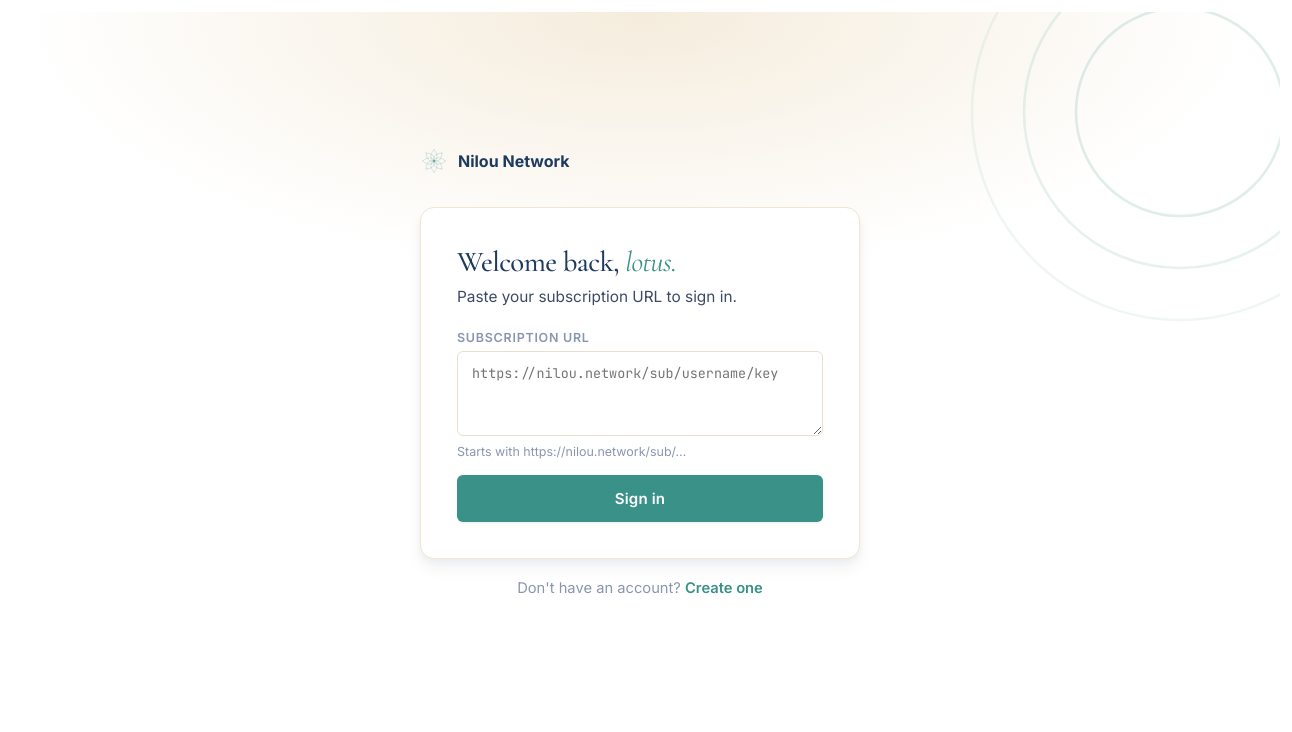
Scenario: LoginPage submit flow › on 400 (malformed): shows backend detail without storing token
In the text box with placeholder "https://nilou.network/sub/username/key": (640, 394) [457, 351, 823, 436], type "https://example.com/junk/path"
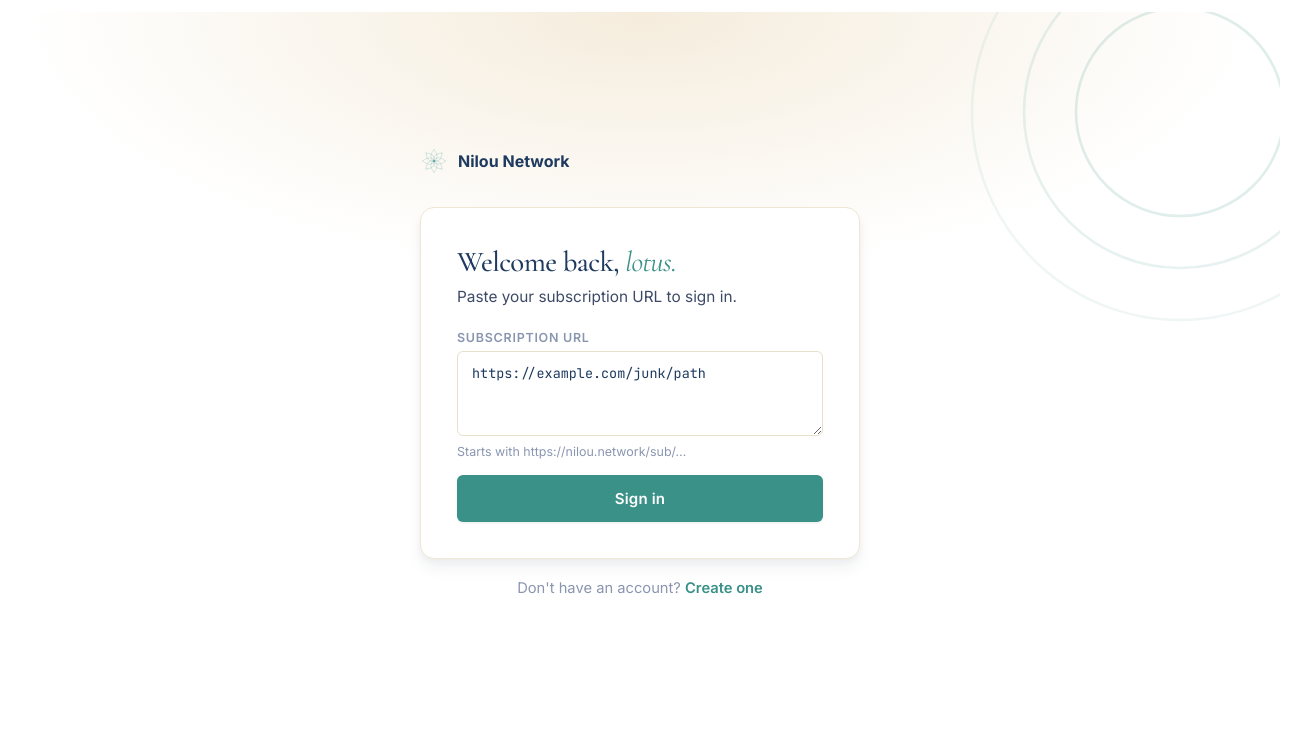
Click the button "Sign in": (640, 498) [457, 475, 823, 522]
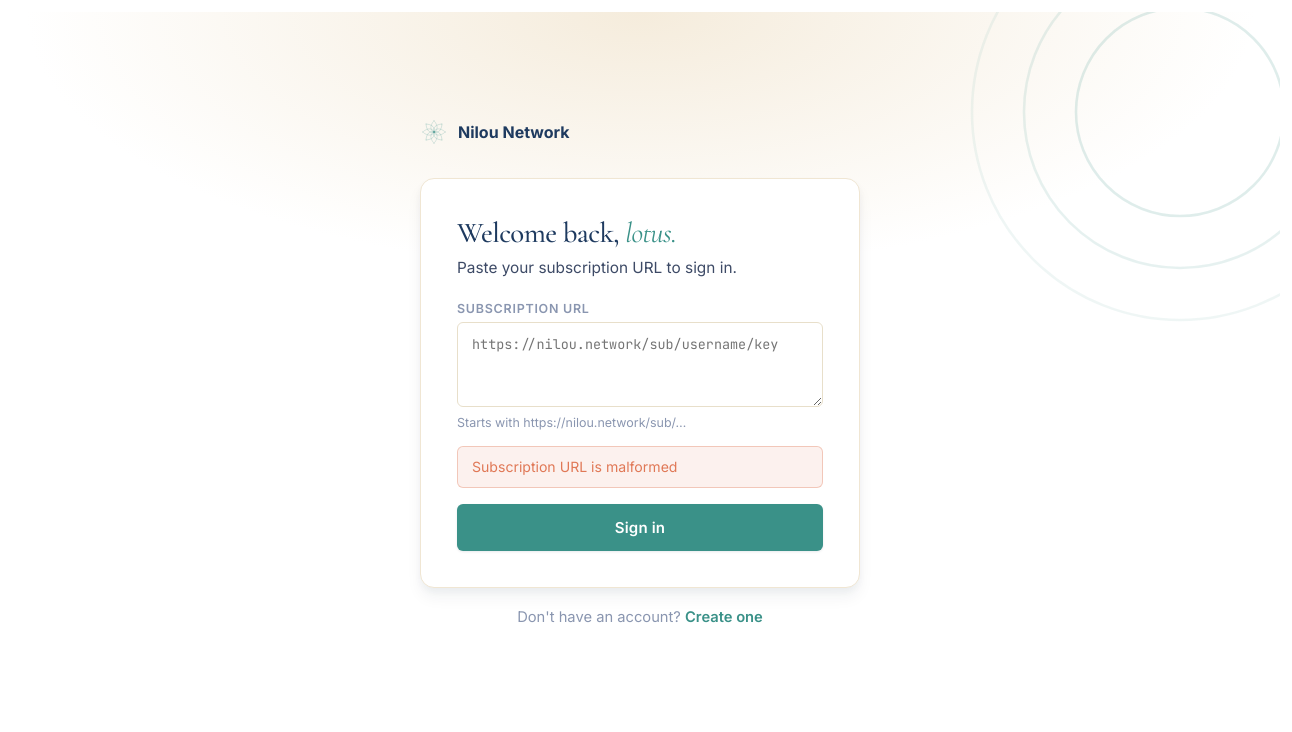
Expected: the message reads "Subscription URL is malformed", [472, 458, 678, 474]
